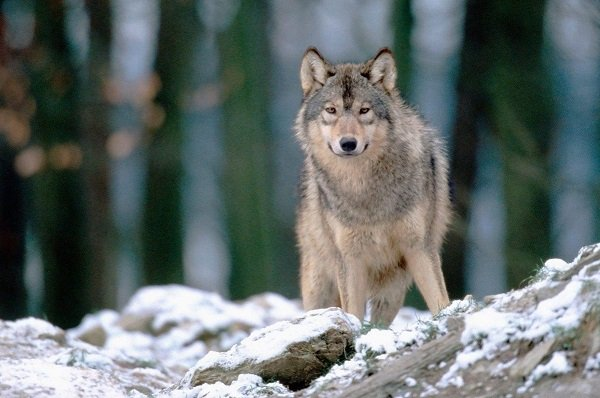Lobo: (268, 31, 467, 307)
